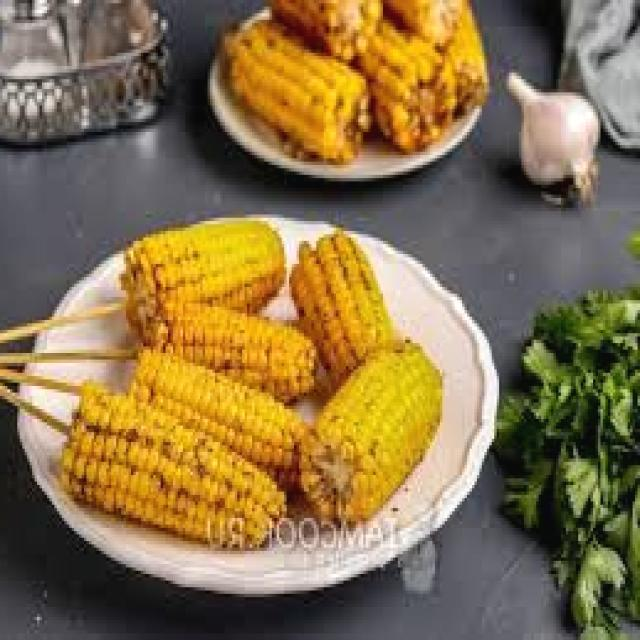bell_pepper: (46, 371, 308, 550), (306, 332, 445, 535), (124, 343, 334, 475), (216, 25, 384, 160), (117, 206, 295, 324), (136, 294, 332, 398), (288, 209, 398, 394), (342, 22, 453, 158), (248, 0, 388, 86), (378, 0, 502, 96)
